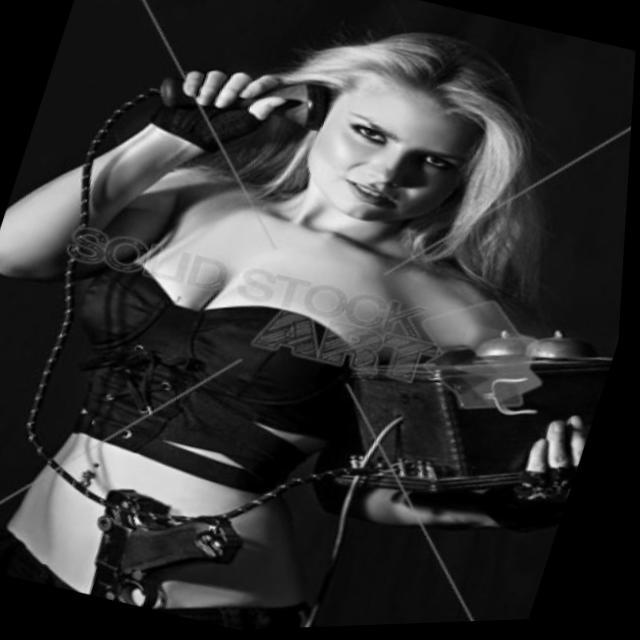weapon: (74, 472, 268, 632)
